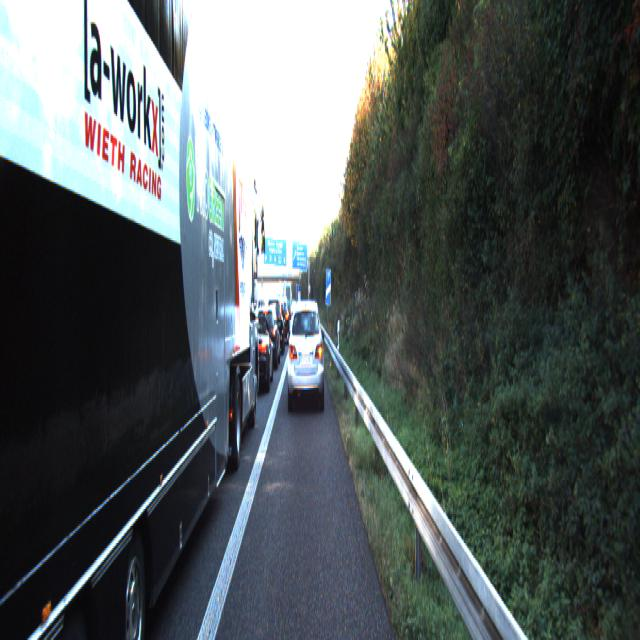Car: (11, 0, 260, 639), (286, 296, 324, 410), (238, 313, 274, 393), (253, 303, 280, 369), (265, 299, 286, 358)
